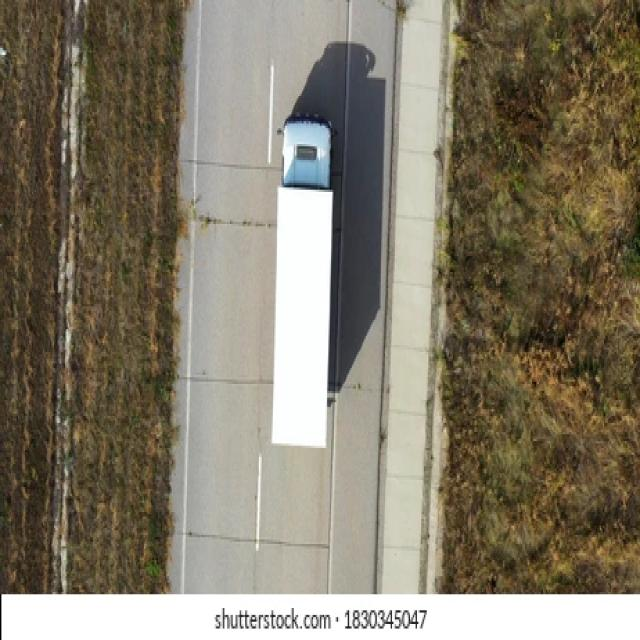truck: (270, 121, 334, 449)
